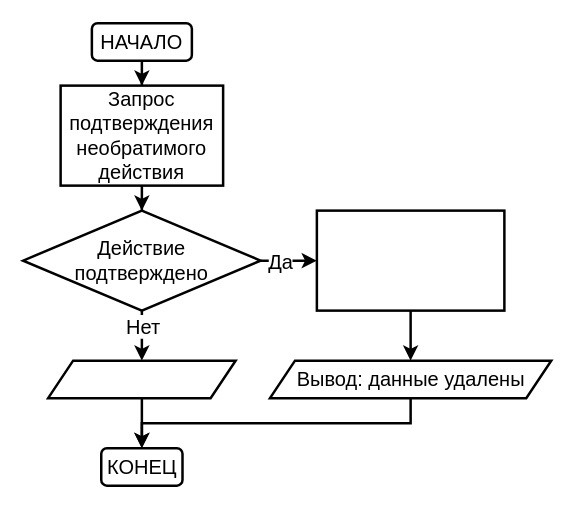
The diagram is 574 pixels wide and 508 high, and some of its shapes have lost their labels. The shapes that lost their labels are listed below. From the top down, each one's box as (x1, y1, x2, y2) in pixels, then its label:
(315, 209, 505, 311): Полное удаление данных из зашифрованного хранилища
(46, 359, 236, 399): Вывод: отмена
